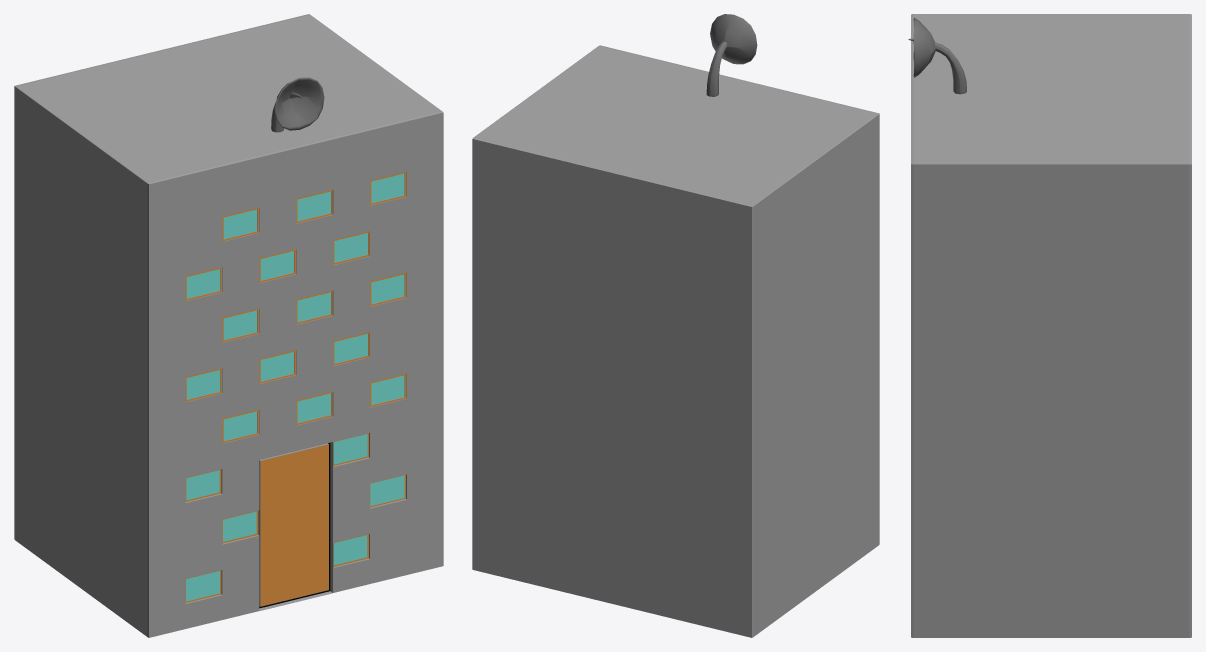
The model's file is House2.fbx.
The picture shows the model from 3 angles, left to right: view 1: azimuth 30°, elevation 25°; view 2: azimuth 150°, elevation 25°; view 3: azimuth 270°, elevation 25°; orthographic projection. The views are drawn at different scales.
Visible parts, largest first — view 1: House1; view 2: House1; view 3: House1.
Boxes of the visible parts, x1=… form: House1: x1=14, y1=14, x2=443, y2=637; House1: x1=472, y1=14, x2=879, y2=637; House1: x1=908, y1=14, x2=1191, y2=637.
Bounding box in the file's own units: 514 × 869 × 411.
